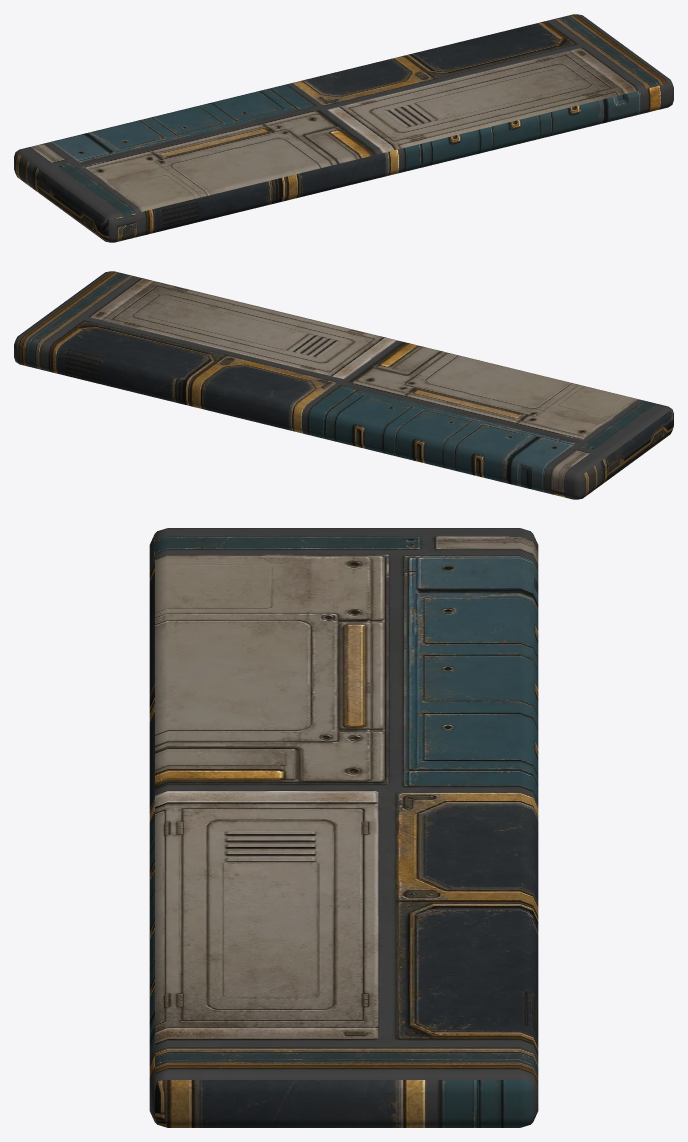
Rendered from hp_room_residential_ceiling_softbox.glb.
The picture shows the model from 3 angles, top to bottom: view 1: azimuth 30°, elevation 25°; view 2: azimuth 150°, elevation 25°; view 3: azimuth 270°, elevation 25°; orthographic projection. The views are drawn at different scales.
Parts seen in each view (by area): view 1: softbox_dark_upper_housing; view 2: softbox_dark_upper_housing; view 3: softbox_dark_upper_housing.
Boxes of the visible parts, <box> form: softbox_dark_upper_housing: <box>14,14,673,242</box>; softbox_dark_upper_housing: <box>14,271,673,499</box>; softbox_dark_upper_housing: <box>149,528,538,1127</box>.
Size of the model in its own units: 3.81 by 0.1847 by 1.13.
5 materials, 2 textured.
